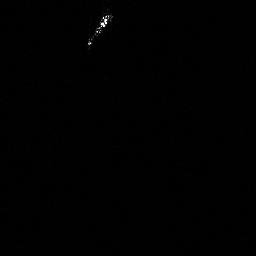ship: (83, 11, 113, 48)
